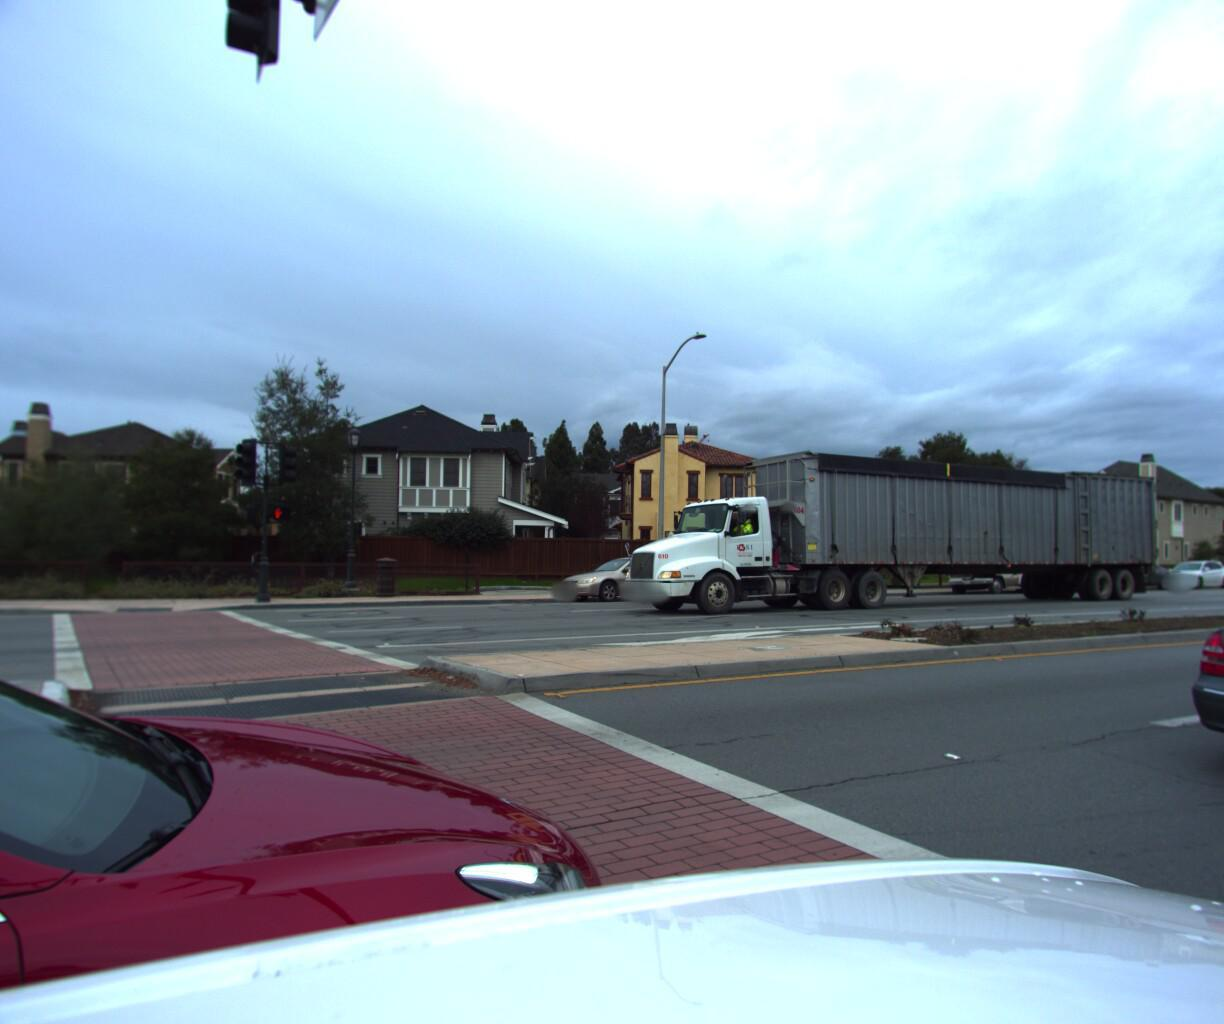car: (1160, 552, 1224, 842), (544, 551, 708, 604), (679, 552, 815, 600), (1080, 555, 1176, 588), (1142, 552, 1224, 587), (1214, 537, 1224, 583)
other_vehicle: (919, 508, 1117, 590)
truck: (596, 417, 1170, 619)
